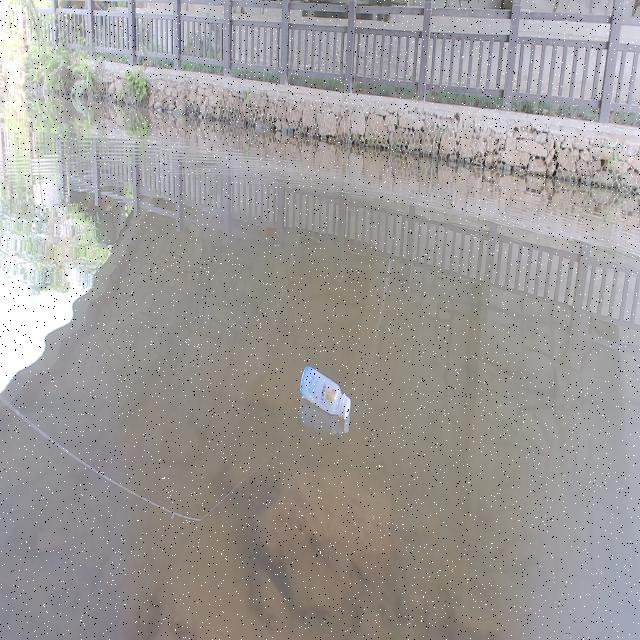Bottle: (297, 358, 352, 422)
